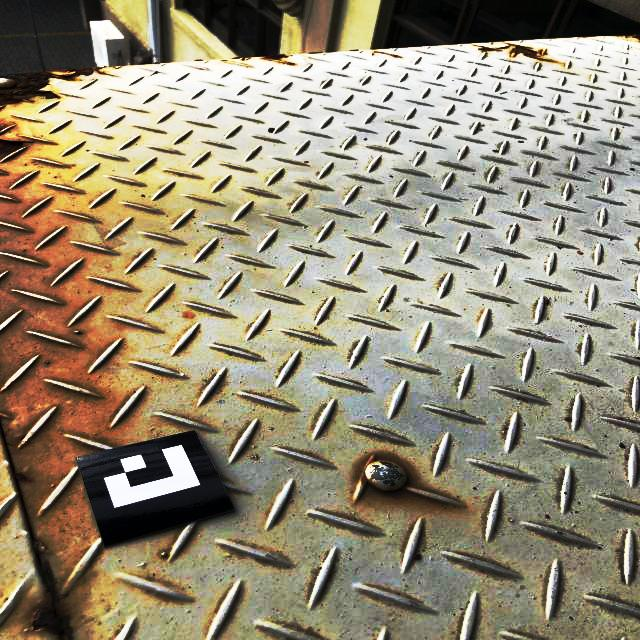Corrosion: (0, 67, 107, 106), (26, 561, 78, 640), (0, 137, 34, 159), (263, 54, 297, 66), (512, 45, 539, 57), (476, 45, 505, 53)
